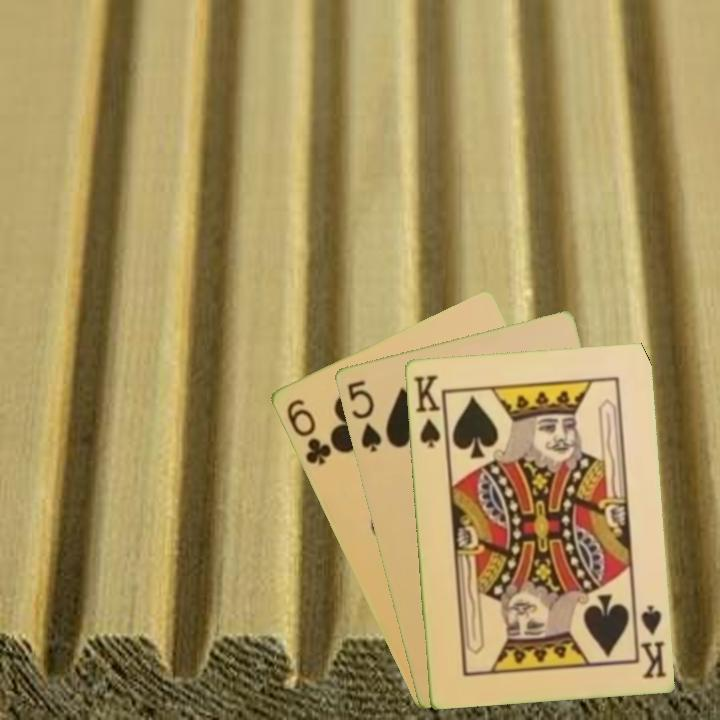5s: (343, 376, 384, 455)
6c: (282, 395, 334, 468)
Ks: (630, 600, 668, 681), (409, 371, 443, 450)
